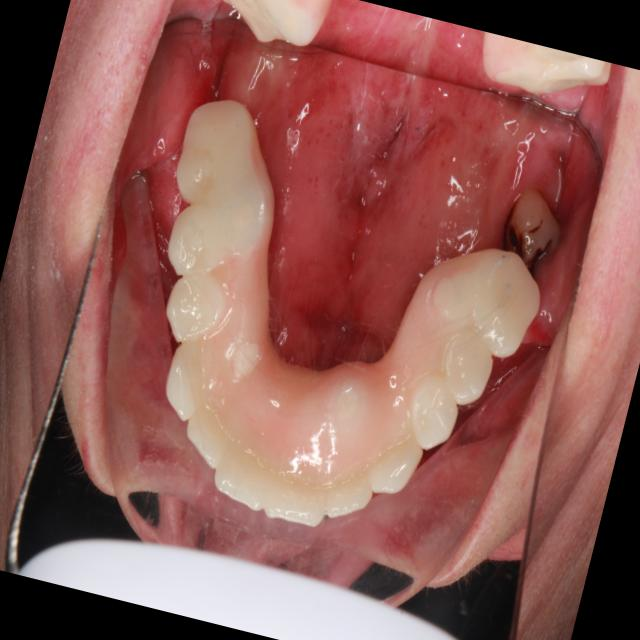tooth: (156, 86, 273, 226), (443, 236, 556, 378), (247, 427, 354, 552), (147, 254, 250, 376), (486, 169, 582, 289), (195, 430, 292, 542), (163, 383, 252, 504), (423, 312, 515, 427), (147, 324, 231, 444), (151, 191, 240, 296), (392, 361, 472, 468), (313, 448, 395, 550), (354, 416, 435, 515)
